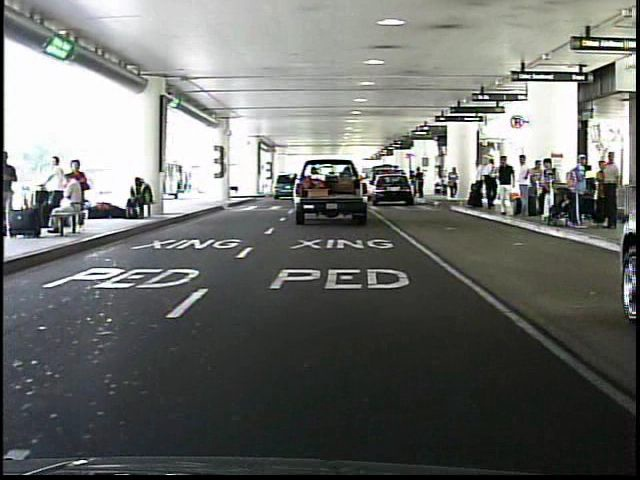person: (494, 153, 518, 220), (513, 153, 535, 220), (466, 154, 488, 213), (445, 166, 462, 203), (415, 167, 426, 202), (408, 167, 417, 200)
